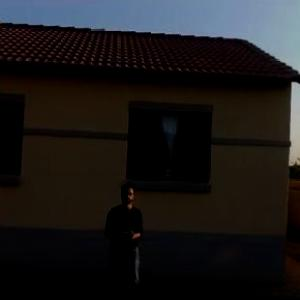follow: (100, 177, 150, 299)
